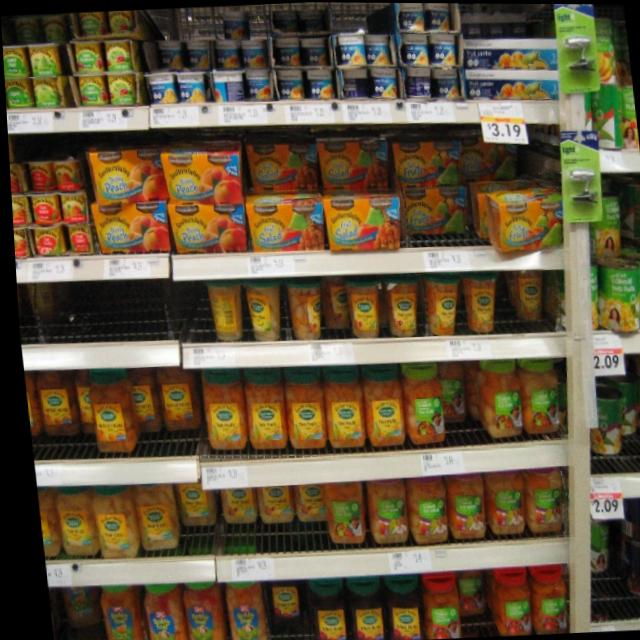q91: (582, 10, 629, 102), (596, 246, 640, 343), (612, 88, 638, 150)
